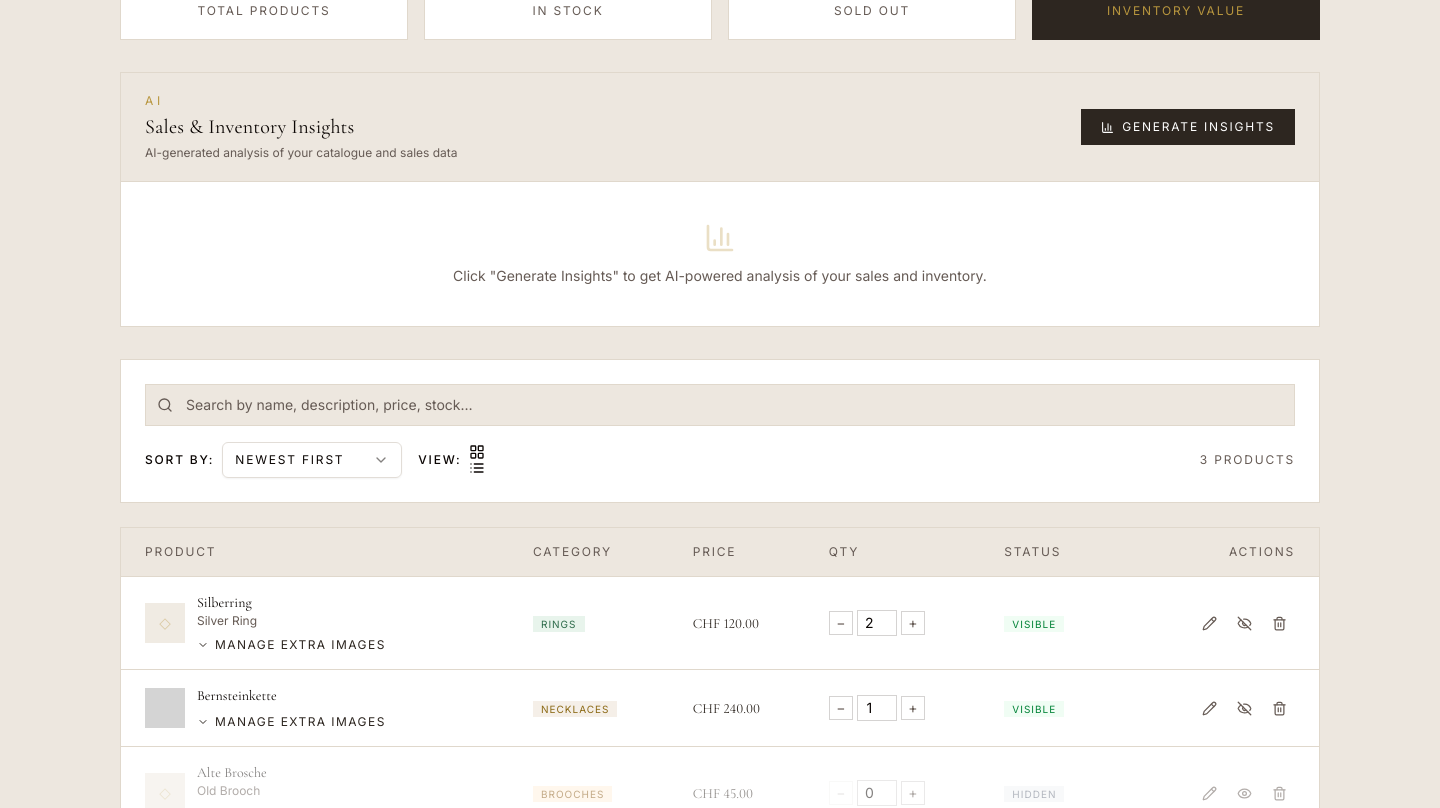
Test: Admin page — inventory filter › reports the catch against the whole catalogue
The width and height of the screenshot is (1440, 808).
(page scrolled)
Expected: the text "3 products" is shown, [1200,452,1295,468]
Type "bernstein" into the search field named "Search your inventory". click: (720, 405)
box: [145,384,1295,426]
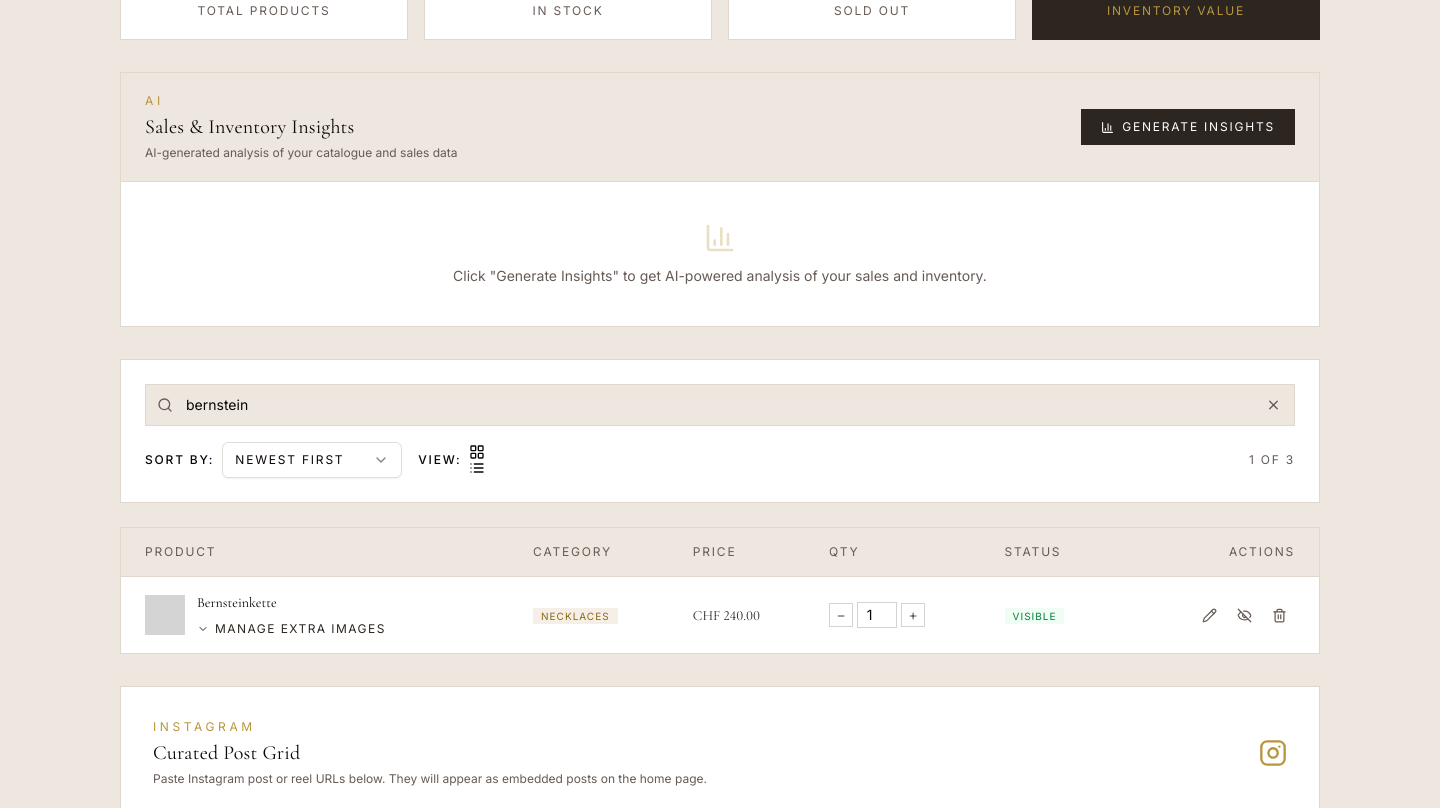
Expected: the text "1 of 3" is shown, [1249,452,1295,468]
